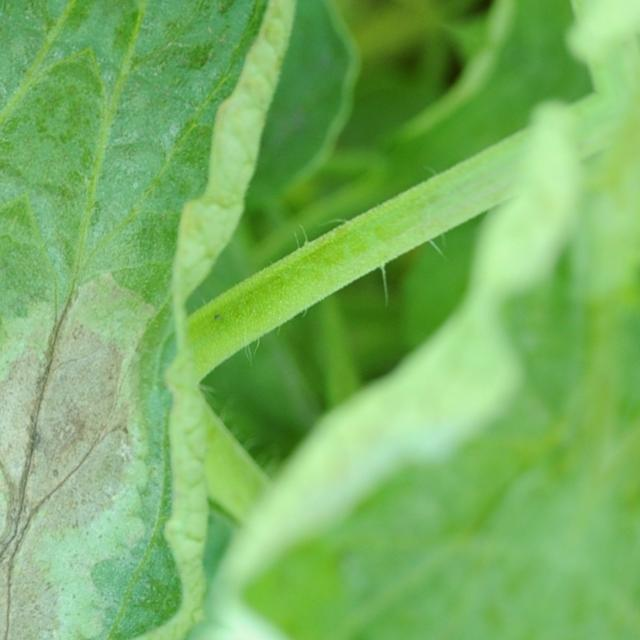Tomato leaf late blight: (0, 0, 520, 640)
